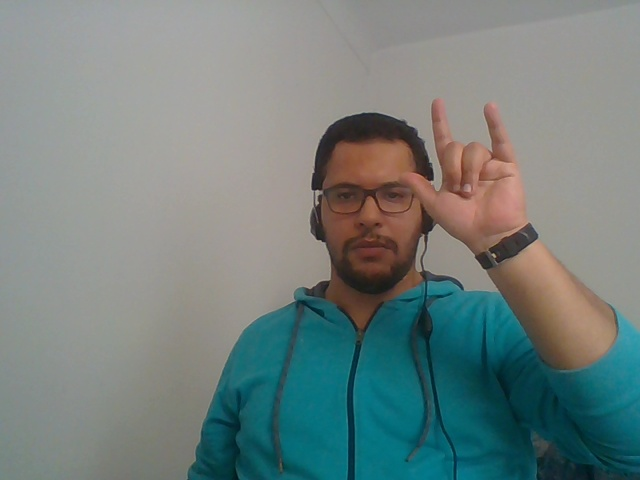iloveyou: (393, 80, 595, 346)
